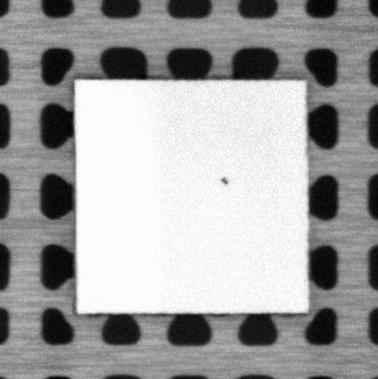DIE_INK: (218, 175, 230, 184)
